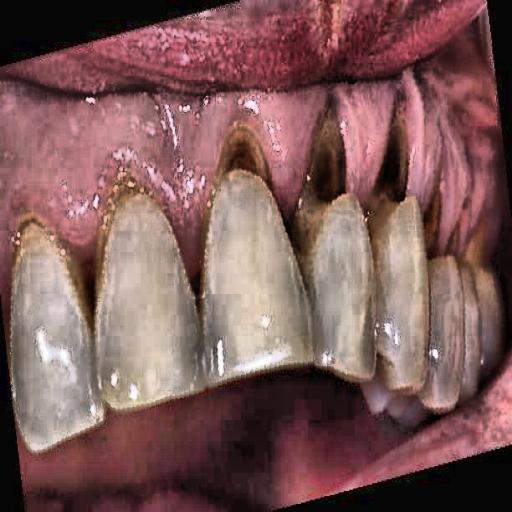Gingivitis: (1, 61, 281, 247), (289, 47, 496, 242)
